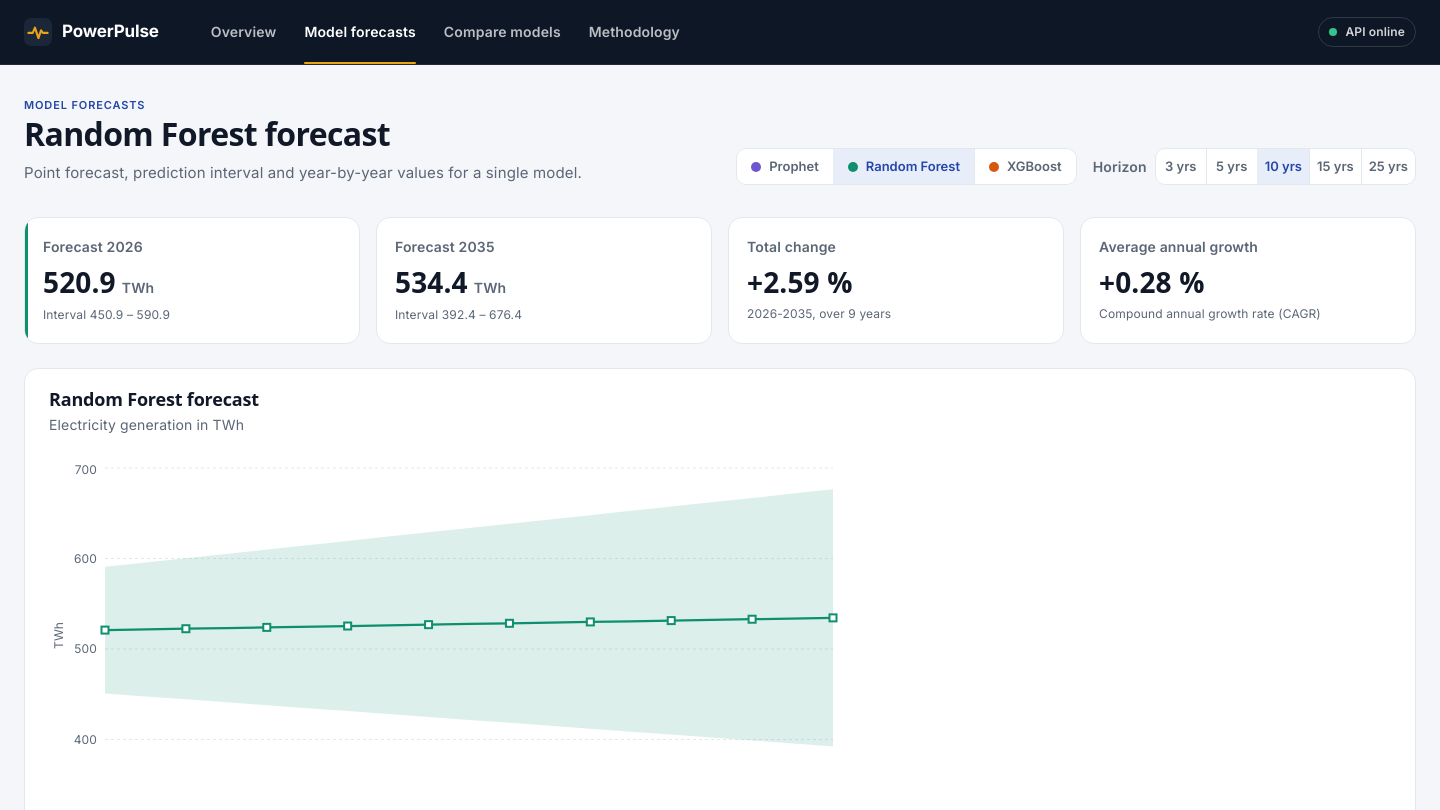
Test: application › deep-links to a model and switches models
This screenshot has width=1440, height=810.
Expected: the 1st heading "Random Forest forecast" is shown, [24, 112, 390, 155]
Step 1. Click the button "XGBoost" → (1025,167), box [974, 148, 1077, 185]
(page scrolled)
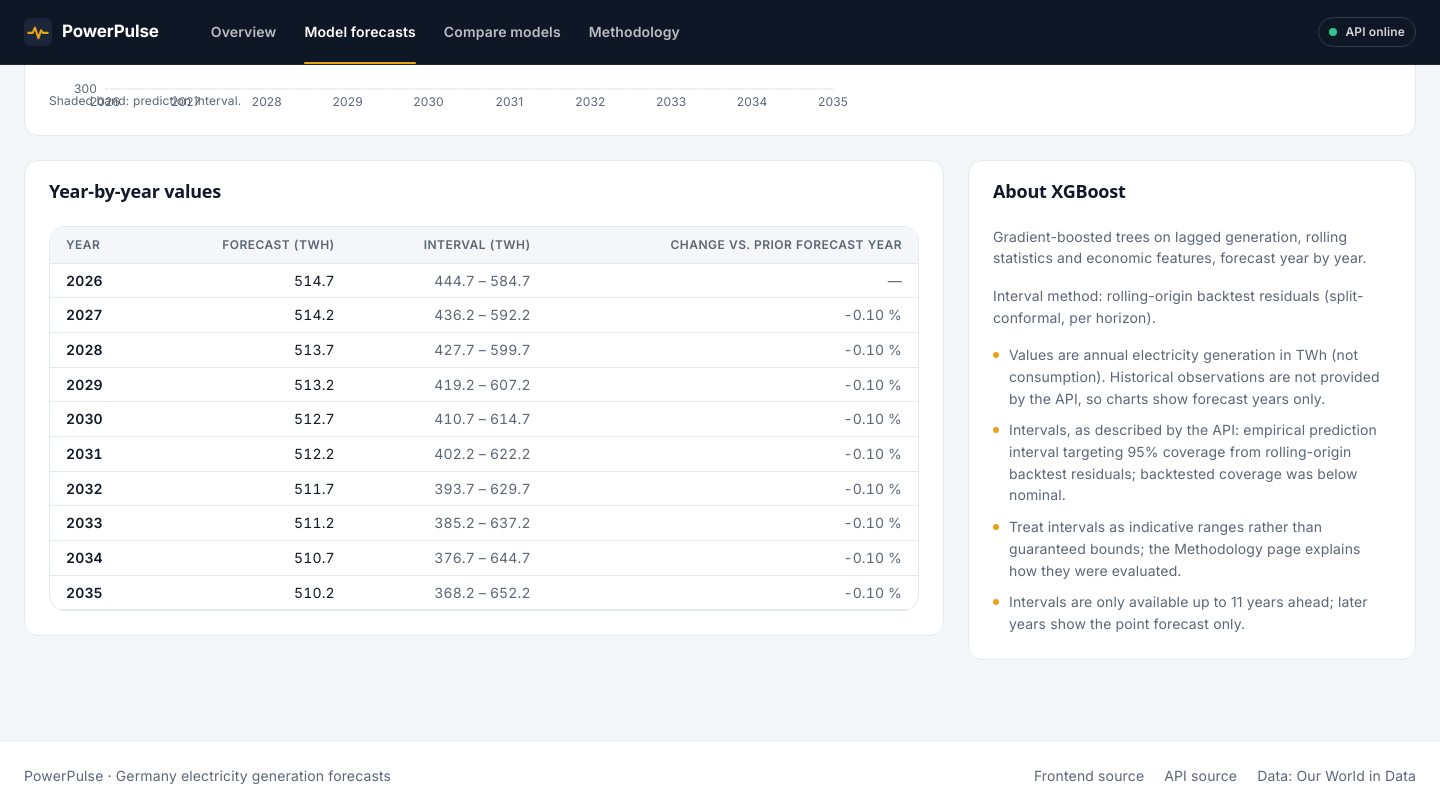
Now the table named "XGBoost forecast values by year" is shown, box [50, 227, 918, 610]
